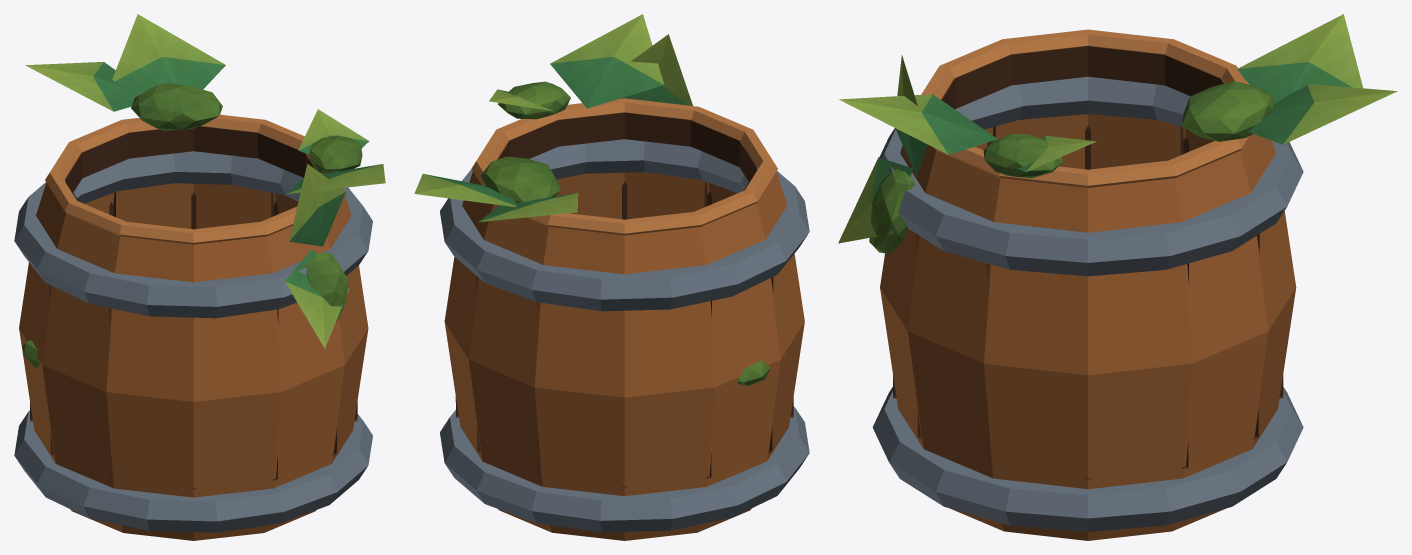
File: kit_open_barrel.glb
3 renders of one model, left to right at view 1: azimuth 30°, elevation 25°; view 2: azimuth 150°, elevation 25°; view 3: azimuth 270°, elevation 25°, orthographic. The views are drawn at different scales.
Visible parts, largest first — view 1: Open barrel staves, Open barrel iron hoop.001, Open barrel iron hoop, Open barrel rim, Barrel inner lip, Woodland shared curved ivy leaf.021, Woodland shared moss cushion.011, Woodland shared curved ivy leaf.022, Woodland shared curved ivy leaf.023, Woodland shared curved ivy leaf.024, Woodland shared moss cushion.012, Woodland shared moss cushion.009 (+2 smaller); view 2: Open barrel staves, Open barrel iron hoop.001, Open barrel iron hoop, Open barrel rim, Barrel inner lip, Woodland shared curved ivy leaf.018, Woodland shared moss cushion.011, Woodland shared curved ivy leaf.023, Woodland shared curved ivy leaf.021, Woodland shared moss cushion.009, Woodland shared curved ivy leaf.022, Woodland shared moss cushion.008 (+1 smaller); view 3: Open barrel staves, Open barrel iron hoop.001, Open barrel iron hoop, Open barrel rim, Barrel inner lip, Woodland shared curved ivy leaf.022, Woodland shared curved ivy leaf.018, Woodland shared curved ivy leaf.021, Woodland shared moss cushion.011, Woodland shared moss cushion.012, Woodland shared moss cushion.009, Woodland shared curved ivy leaf.024 (+2 smaller).
Boxes of the visible parts, left/top/right/bottom form: Open barrel staves: left=19, top=158, right=368, bottom=540; Open barrel iron hoop.001: left=14, top=151, right=372, bottom=318; Open barrel iron hoop: left=14, top=410, right=372, bottom=532; Open barrel rim: left=45, top=114, right=325, bottom=244; Barrel inner lip: left=65, top=126, right=315, bottom=201; Woodland shared curved ivy leaf.021: left=112, top=14, right=225, bottom=93; Woodland shared moss cushion.011: left=131, top=83, right=222, bottom=130; Woodland shared curved ivy leaf.022: left=25, top=62, right=141, bottom=111; Woodland shared curved ivy leaf.023: left=289, top=164, right=345, bottom=246; Woodland shared curved ivy leaf.024: left=284, top=249, right=348, bottom=348; Woodland shared moss cushion.012: left=304, top=252, right=348, bottom=328; Woodland shared moss cushion.009: left=309, top=135, right=362, bottom=173; Open barrel staves: left=444, top=147, right=804, bottom=540; Open barrel iron hoop.001: left=440, top=139, right=809, bottom=311; Open barrel iron hoop: left=440, top=406, right=809, bottom=532; Open barrel rim: left=471, top=98, right=777, bottom=235; Barrel inner lip: left=498, top=113, right=757, bottom=190; Woodland shared curved ivy leaf.018: left=550, top=14, right=664, bottom=108; Woodland shared moss cushion.011: left=480, top=156, right=560, bottom=202; Woodland shared curved ivy leaf.023: left=619, top=34, right=692, bottom=105; Woodland shared curved ivy leaf.021: left=414, top=174, right=516, bottom=206; Woodland shared moss cushion.009: left=498, top=81, right=570, bottom=119; Woodland shared curved ivy leaf.022: left=478, top=193, right=578, bottom=222; Woodland shared moss cushion.008: left=737, top=360, right=770, bottom=385; Open barrel staves: left=880, top=85, right=1296, bottom=540; Open barrel iron hoop.001: left=879, top=76, right=1303, bottom=276; Open barrel iron hoop: left=872, top=387, right=1303, bottom=531; Open barrel rim: left=921, top=29, right=1248, bottom=187; Barrel inner lip: left=942, top=46, right=1223, bottom=109; Woodland shared curved ivy leaf.022: left=1237, top=14, right=1362, bottom=103; Woodland shared curved ivy leaf.018: left=839, top=94, right=997, bottom=154; Woodland shared curved ivy leaf.021: left=1248, top=84, right=1397, bottom=144; Woodland shared moss cushion.011: left=1181, top=81, right=1274, bottom=141; Woodland shared moss cushion.012: left=869, top=169, right=914, bottom=253; Woodland shared moss cushion.009: left=983, top=134, right=1063, bottom=177; Woodland shared curved ivy leaf.024: left=838, top=157, right=912, bottom=243.
Bounding box in the file's own units: 0.642 × 0.717 × 0.8339.
Materials: 7 (3 with a texture image).
